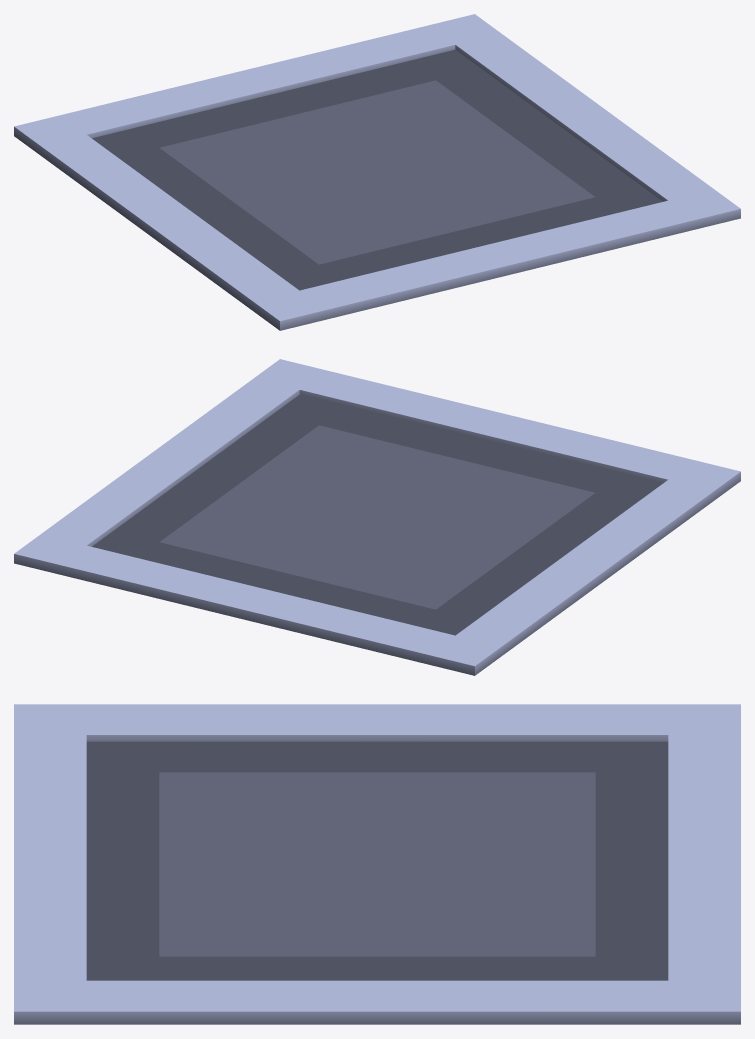
File: road-square.fbx
3 renders of one model, top to bottom at view 1: azimuth 30°, elevation 25°; view 2: azimuth 150°, elevation 25°; view 3: azimuth 270°, elevation 25°, orthographic. The views are drawn at different scales.
Visible parts, largest first — view 1: road-square; view 2: road-square; view 3: road-square.
Boxes of the visible parts, bbox=[...] form: road-square: bbox=[14, 14, 740, 330]; road-square: bbox=[14, 359, 740, 675]; road-square: bbox=[14, 704, 740, 1024].
Bounding box in the file's own units: 100 × 2 × 100.
